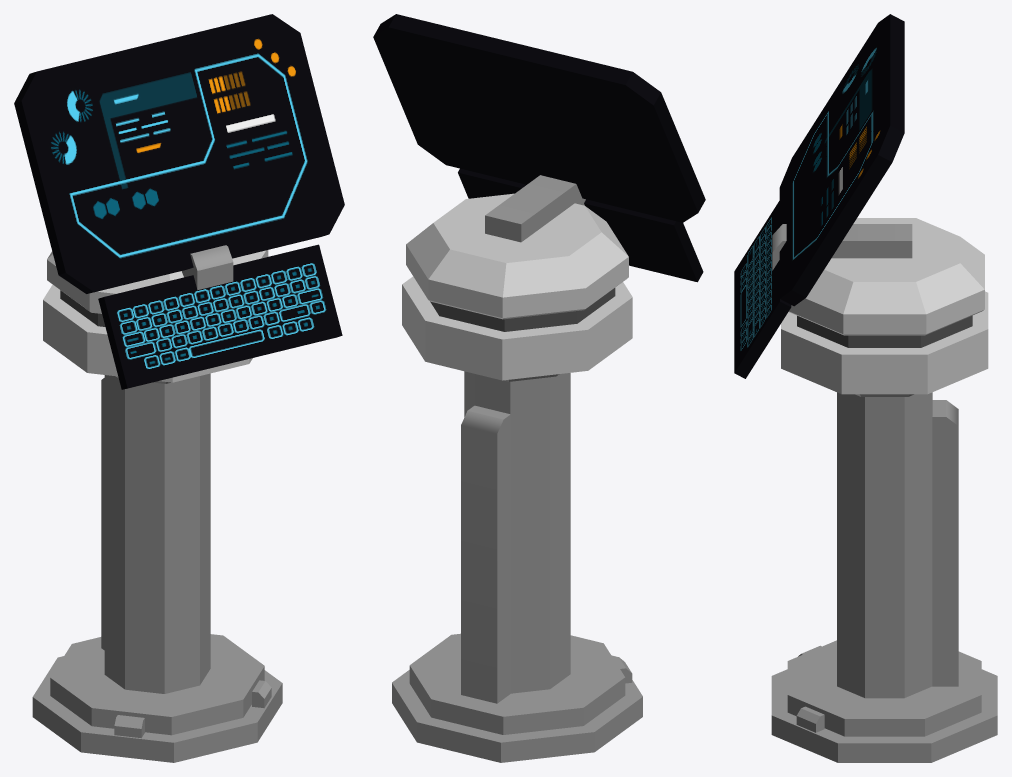
The model's file is SM_Computer_1.fbx.
The picture shows the model from 3 angles, left to right: view 1: azimuth 30°, elevation 25°; view 2: azimuth 150°, elevation 25°; view 3: azimuth 270°, elevation 25°; orthographic projection. The views are drawn at different scales.
Parts seen in each view (by area): view 1: SM_Computer_1; view 2: SM_Computer_1; view 3: SM_Computer_1.
Boxes of the visible parts, x1,y1,x2,y2 form: SM_Computer_1: [14, 14, 344, 762]; SM_Computer_1: [373, 14, 705, 762]; SM_Computer_1: [734, 14, 997, 762].
Bounding box in the file's own units: 64.97 × 148 × 54.75.
